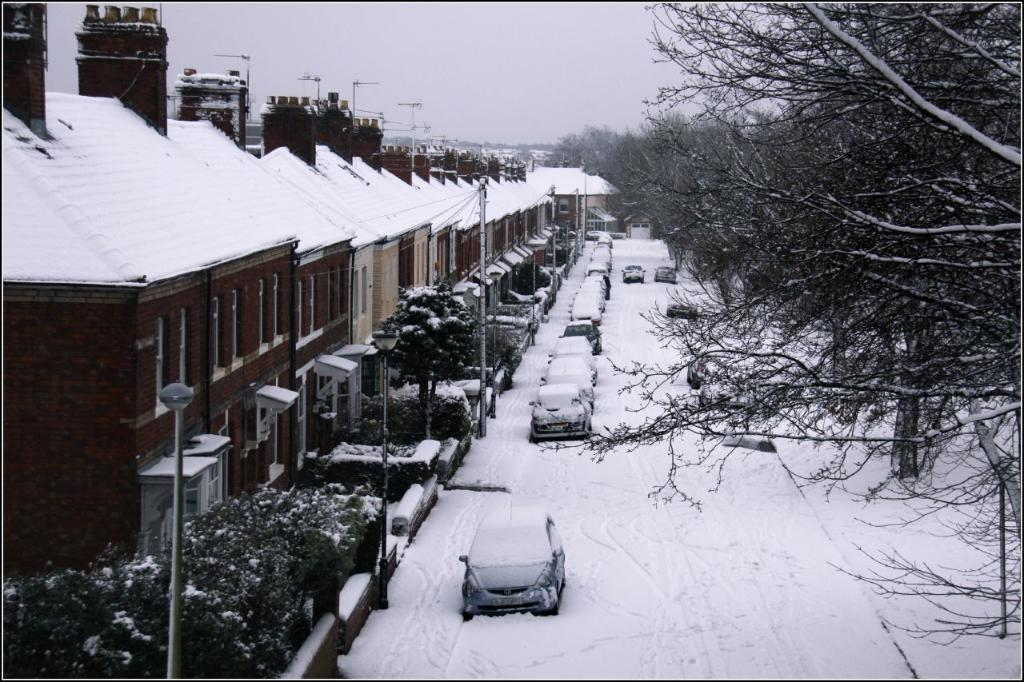Car: (528, 231, 613, 440), (458, 498, 565, 620), (699, 364, 749, 405), (688, 346, 728, 389), (724, 415, 770, 448), (668, 289, 695, 319), (621, 263, 644, 283), (654, 265, 676, 284)
